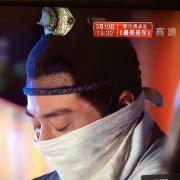OK: (33, 102, 108, 177)
